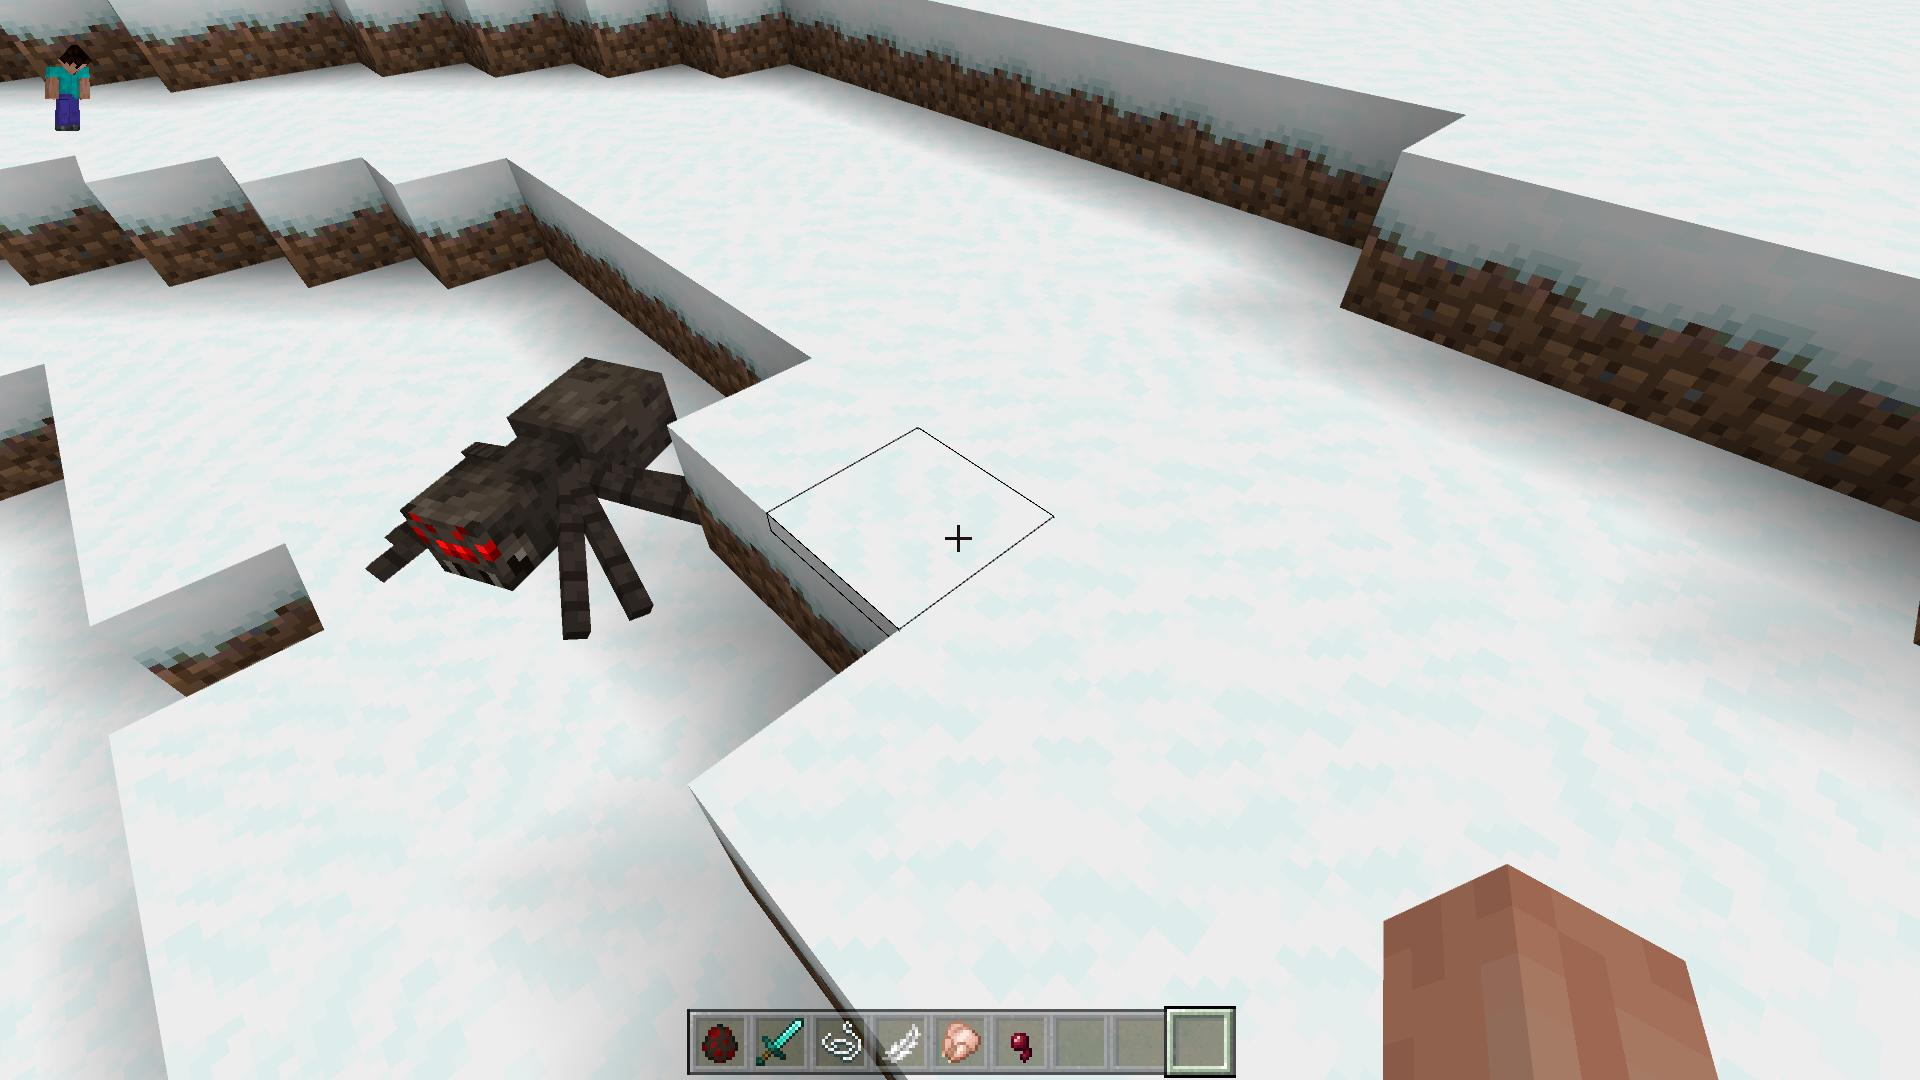spider: (371, 353, 705, 640)
